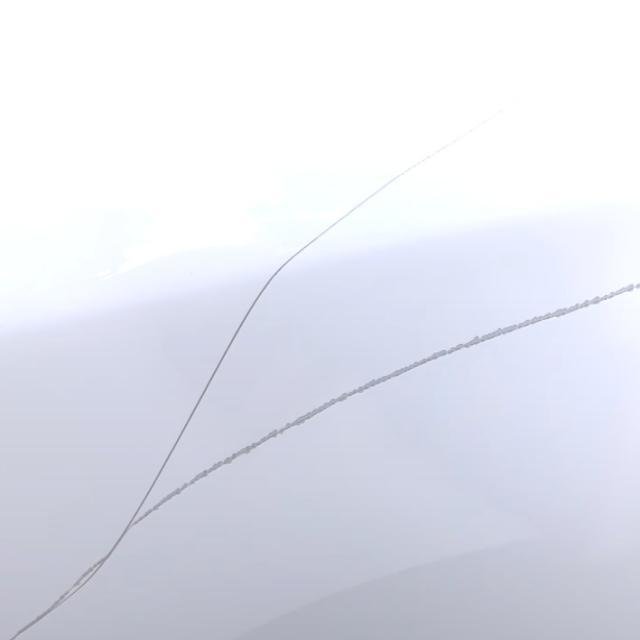crack: (190, 321, 640, 503), (230, 134, 407, 327)
